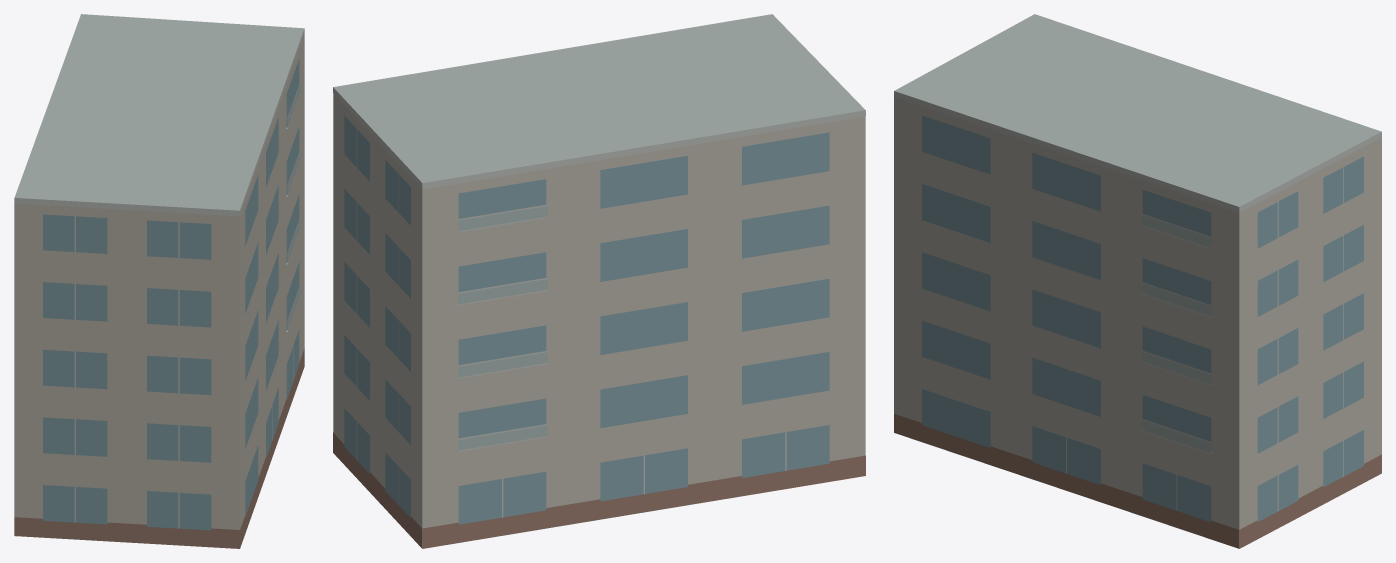
The model's file is survey-upis-32792618.glb.
3 renders of one model, left to right at view 1: azimuth 30°, elevation 25°; view 2: azimuth 150°, elevation 25°; view 3: azimuth 270°, elevation 25°, orthographic. The views are drawn at different scales.
Visible parts, largest first — view 1: survey-upis-32792618.tmp; view 2: survey-upis-32792618.tmp; view 3: survey-upis-32792618.tmp.
Boxes of the visible parts, left/top/right/bottom form: survey-upis-32792618.tmp: left=14, top=14, right=304, bottom=548; survey-upis-32792618.tmp: left=333, top=14, right=865, bottom=548; survey-upis-32792618.tmp: left=894, top=14, right=1381, bottom=548.
Bounding box in the file's own units: 17.45 × 14.4 × 18.63.
